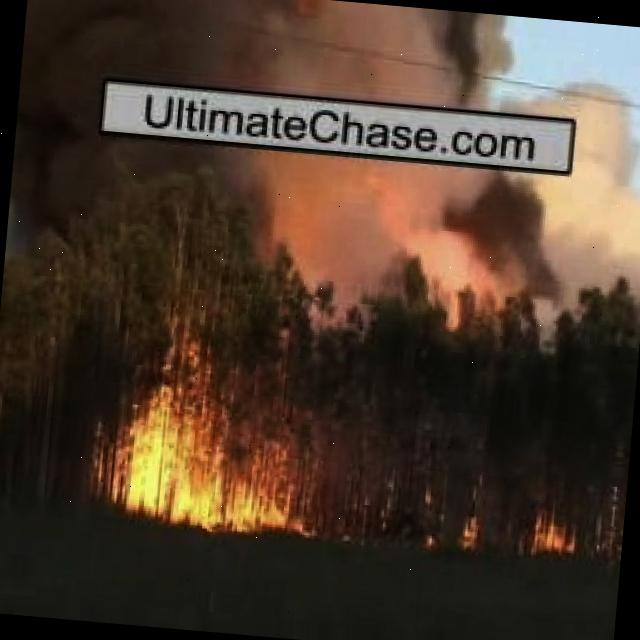fire: (120, 387, 320, 538), (528, 501, 580, 557), (453, 508, 481, 548)
